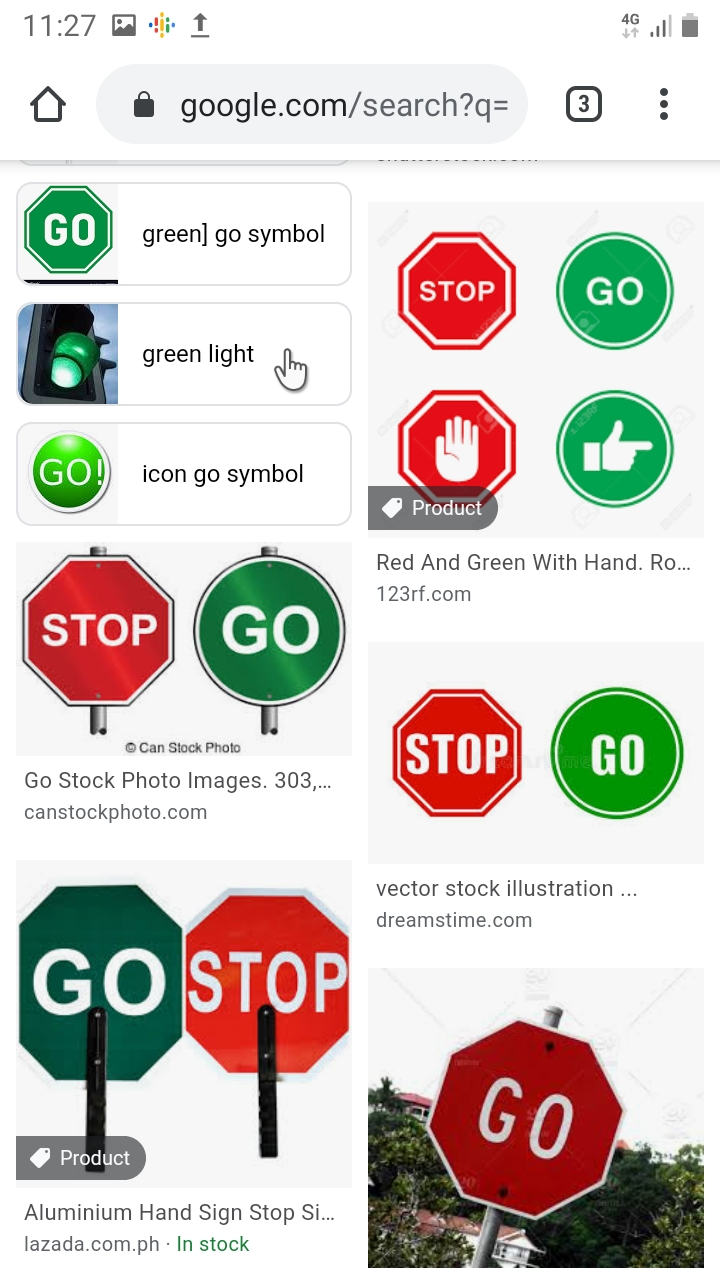go: (431, 1008, 635, 1239), (17, 865, 186, 1115), (198, 533, 345, 719), (549, 676, 686, 841), (551, 219, 692, 365), (17, 180, 119, 274)
stop: (182, 866, 355, 1110), (13, 535, 188, 721), (386, 672, 529, 831), (386, 215, 529, 370)
